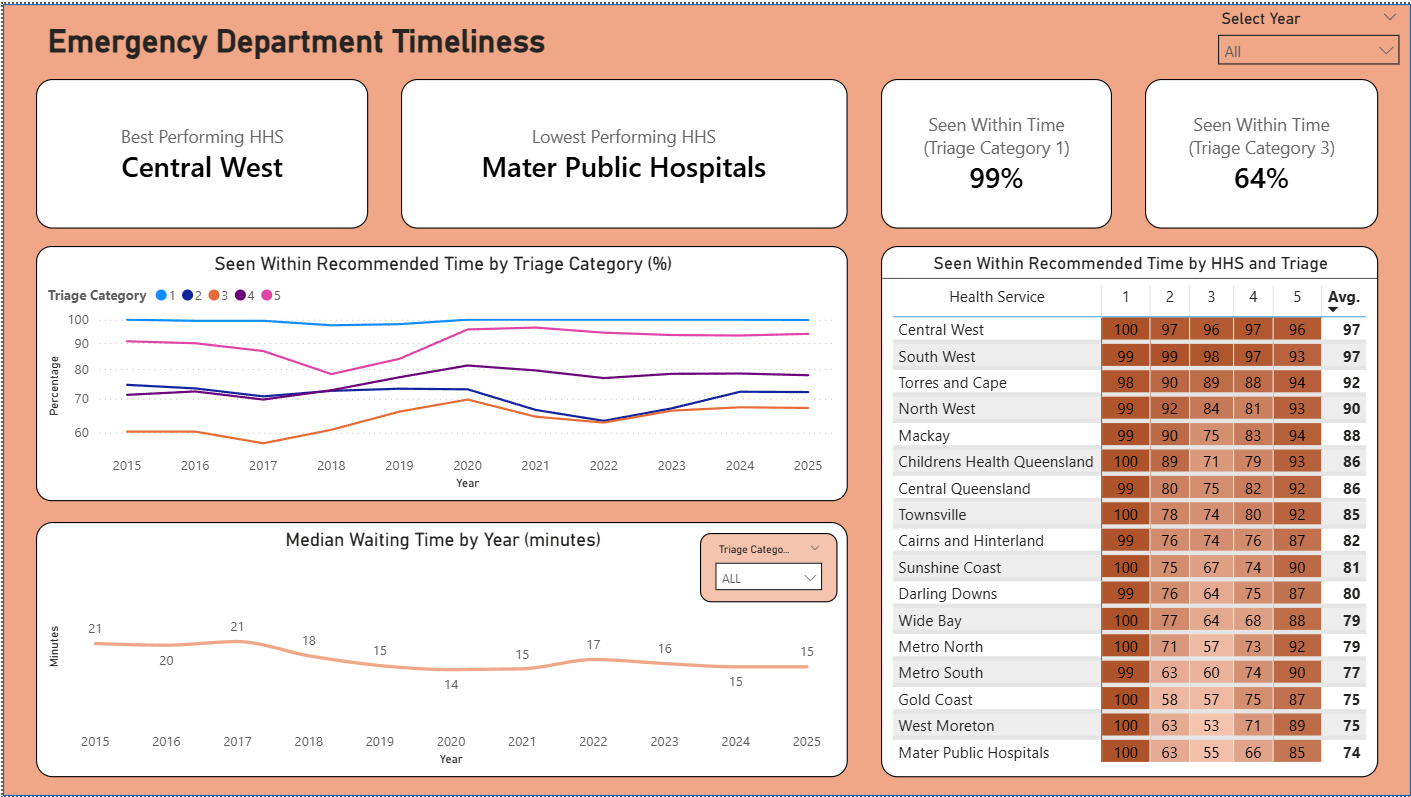

What the dashboard file says about the page in this screenshot:
{"tool":"powerbi","page":{"name":"Pillar 2 - Emergency Department Timeliness","canvas":[1280,720],"ordinal":1},"visuals":[{"type":"shape","box":[0,0,1280,720],"z":0},{"type":"lineChart","title":"Seen Within Recommended Time by Triage Category (%)","fields":{"Category":["Pillar2_3.year"],"Y":["Avg(Pillar2_3.avg_patients_seen_within_recommended_times_percent)"],"Series":["Pillar2_3.triage_category"]},"box":[30,220,737.8,232.2],"z":1000},{"type":"lineChart","title":"Median Waiting Time by Year (minutes)","fields":{"Category":["Pillar2 2.year"],"Y":["Sum(Pillar2 2.avg_median_waiting_time_minutes)"]},"box":[30,471.1,737.8,232.2],"z":2000},{"type":"pivotTable","title":"Seen Within Recommended Time by HHS and Triage","fields":{"Rows":["Pillar2_2.health_service"],"Columns":["Pillar2_2.triage_category"],"Values":["Avg(Pillar2_2.weighted_seen_within_recommended_times_percent)"]},"box":[797.8,220,452.2,483.3],"z":3000},{"type":"cardVisual","fields":{"Data":["Pillar2.Best Performing HHS"]},"box":[30,67.8,302.2,135.6],"z":4000},{"type":"cardVisual","fields":{"Data":["Pillar2.Lowest Performing HHS"]},"box":[362.2,67.8,405.6,135.6],"z":5000},{"type":"cardVisual","fields":{"Data":["Pillar2.Triage Cat 1 Display"]},"box":[797.8,67.8,210,135.6],"z":6000},{"type":"cardVisual","fields":{"Data":["Pillar2.Triage Cat 3 Display"]},"box":[1037.8,67.8,212.2,135.6],"z":7000},{"type":"textbox","box":[30,11.7,474.2,44.2],"z":8000},{"type":"slicer","title":"Year","fields":{"Values":["Pillar2.year"]},"box":[1094.5,0,185.5,68.2],"z":9000},{"type":"slicer","fields":{"Values":["Pillar2 2.triage_category"]},"box":[633.6,480.9,125.5,62.7],"z":10000}]}

Visuals, with their boxes in screenshot pixels (x1, y1, x2, y2), scaled from the page's 1280x720 canvas onto the 1411x797 screenshot:
shape: bbox=[0, 0, 1410, 796]
"Seen Within Recommended Time by Triage Category (%)" lineChart: bbox=[33, 244, 846, 501]
"Median Waiting Time by Year (minutes)" lineChart: bbox=[33, 521, 846, 779]
"Seen Within Recommended Time by HHS and Triage" pivotTable: bbox=[879, 244, 1378, 779]
cardVisual - Pillar2.Best Performing HHS: bbox=[33, 75, 366, 225]
cardVisual - Pillar2.Lowest Performing HHS: bbox=[399, 75, 846, 225]
cardVisual - Pillar2.Triage Cat 1 Display: bbox=[879, 75, 1111, 225]
cardVisual - Pillar2.Triage Cat 3 Display: bbox=[1144, 75, 1378, 225]
textbox: bbox=[33, 13, 556, 62]
"Year" slicer: bbox=[1207, 0, 1410, 75]
slicer - Pillar2 2.triage_category: bbox=[698, 532, 837, 602]
